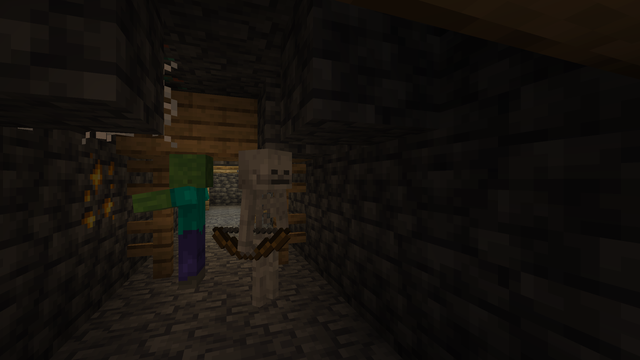squelettes: (241, 149, 292, 315)
zombies: (166, 156, 213, 292)
